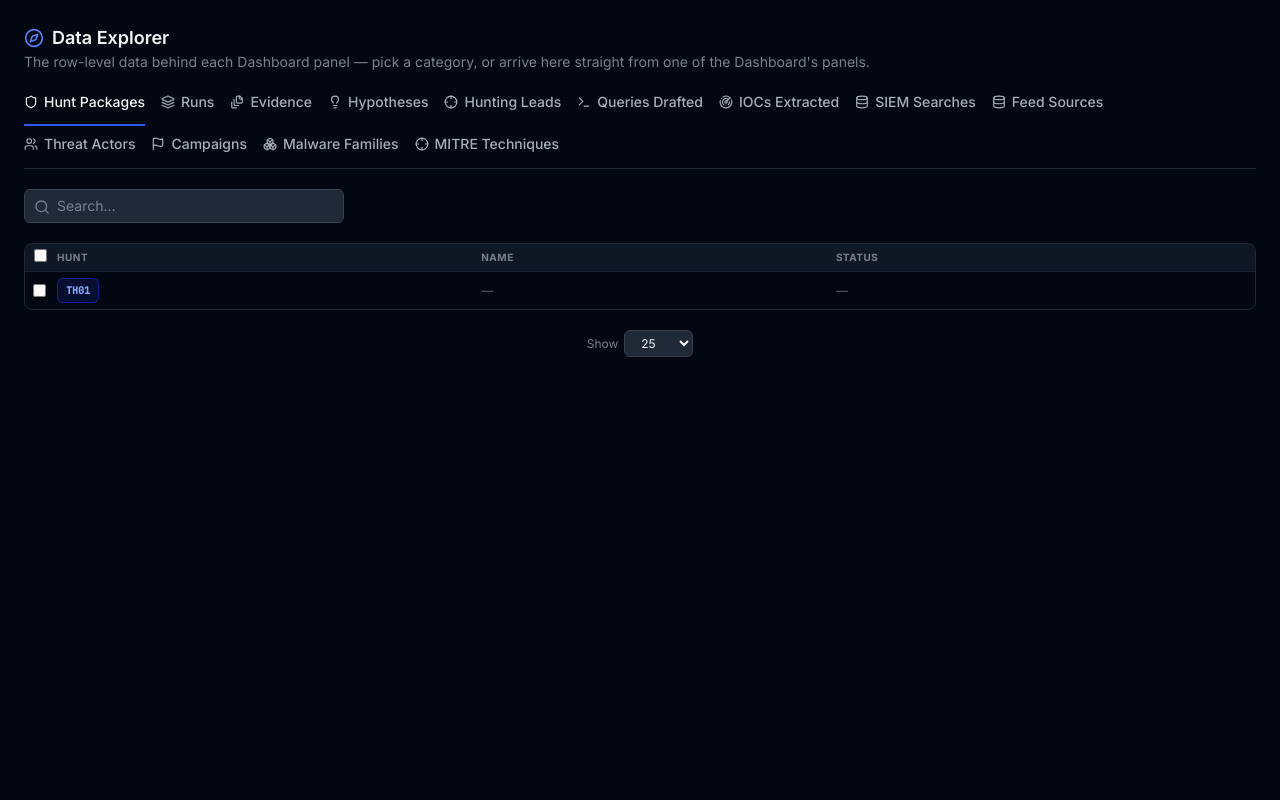
Test: DataExplorer — evidence row preview (issue-local-034) › expanding an evidence row lazily fetches and previews the item
Click the button "Evidence".
click(271, 109)  # box [230,92,312,126]
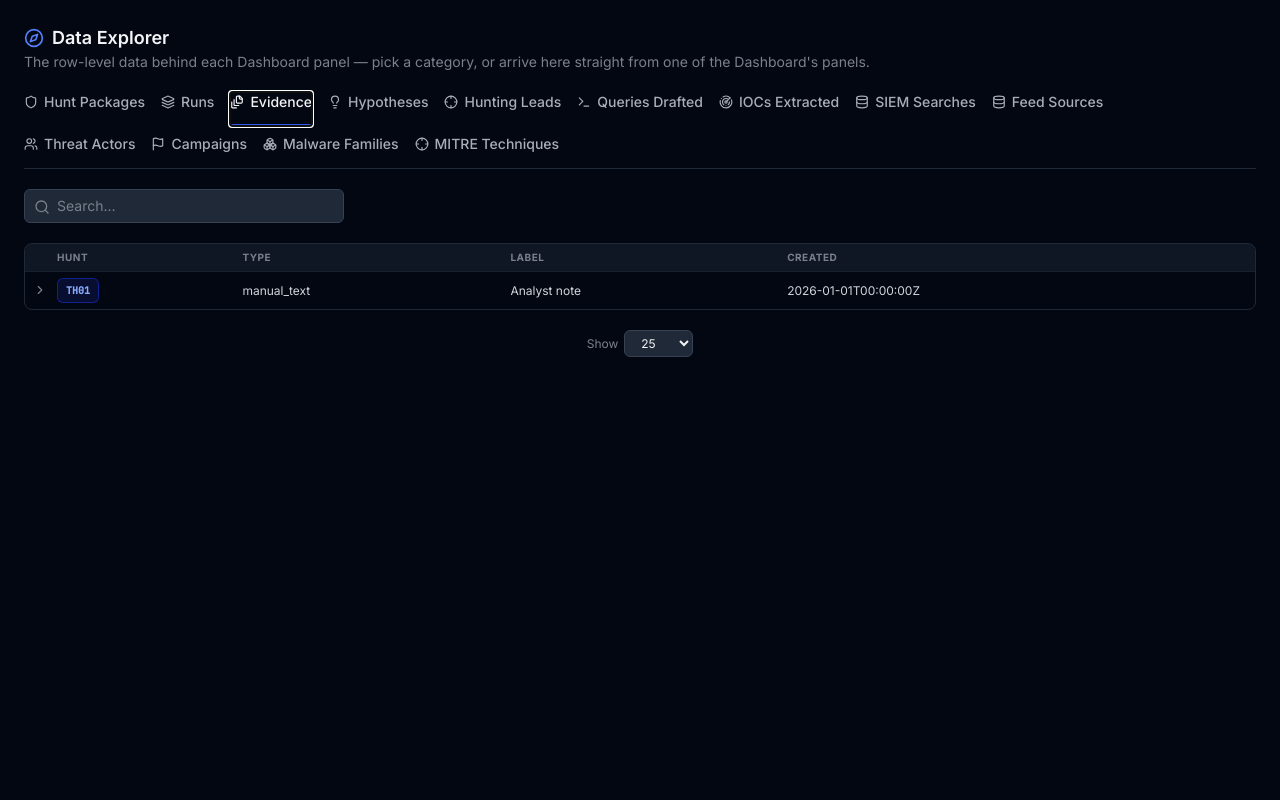
Check: the text "Analyst note" is shown, box [502,272,779,309]
Click the button named "show preview".
click(40, 290)  # box [33,282,47,296]
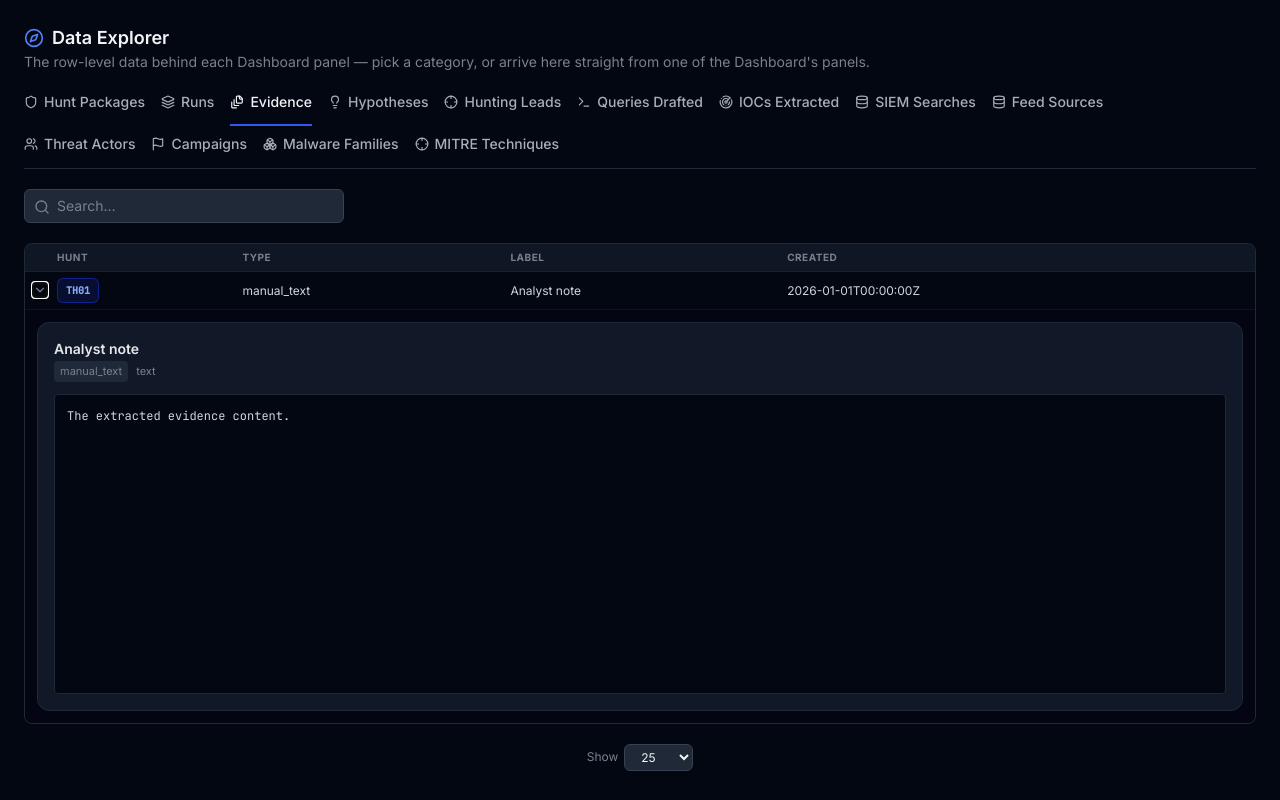
Check: the text "The extracted evidence content." is shown, box [54,394,1226,694]
Click the button named "hide preview".
click(40, 290)  # box [33,282,47,296]
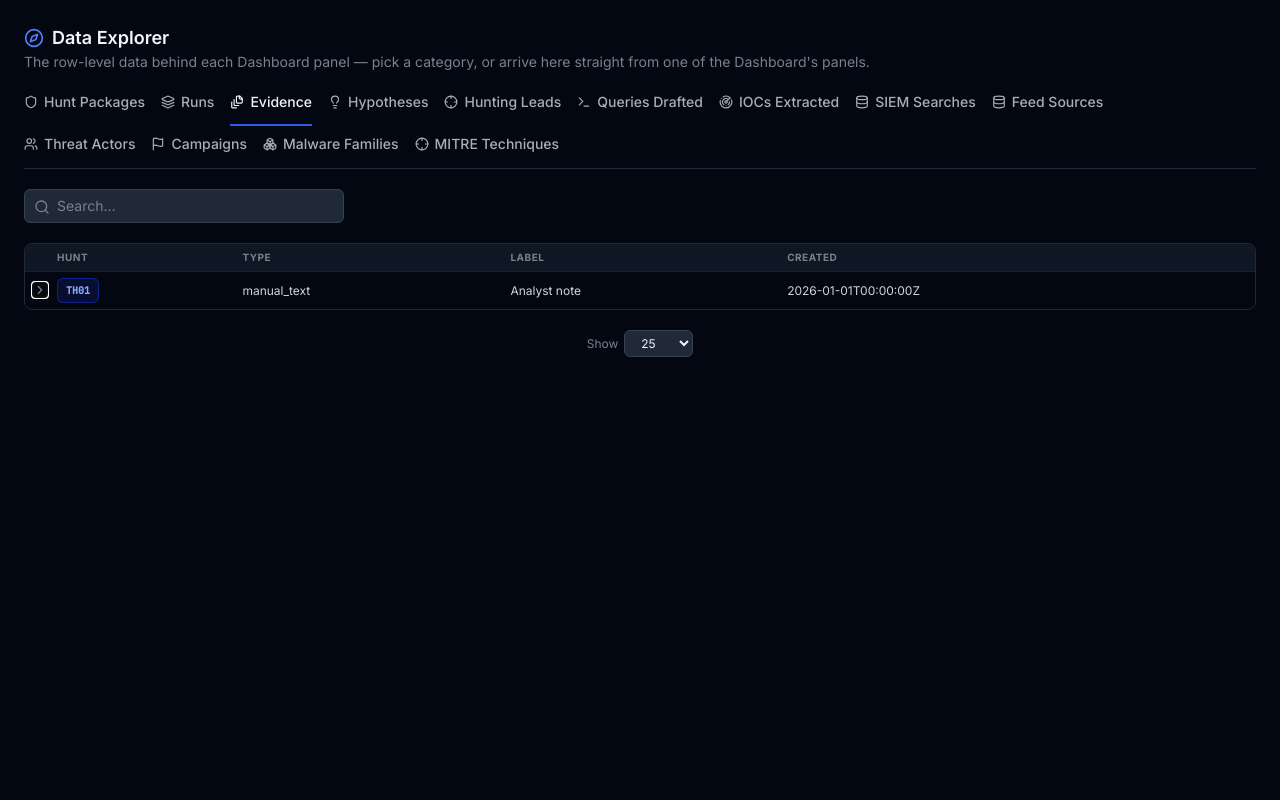
Check: the text "The extracted evidence content." is gone
